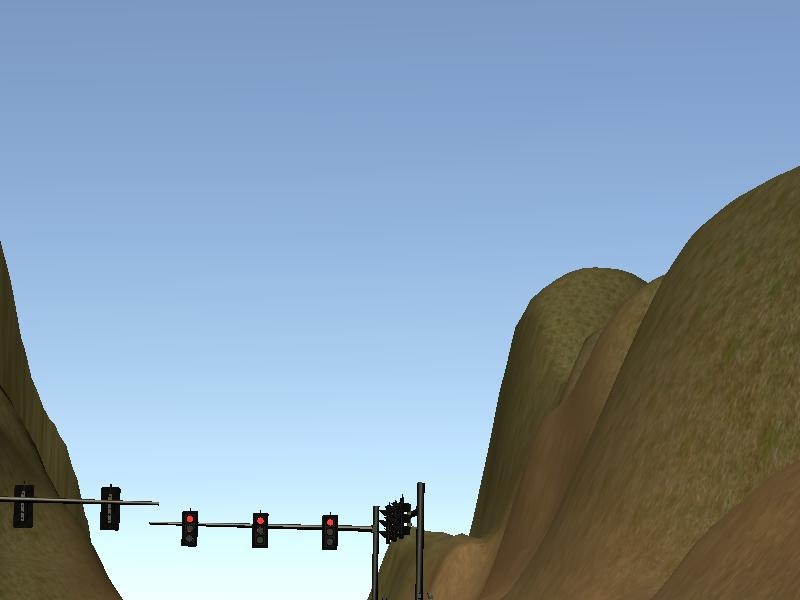red: (246, 508, 272, 552), (318, 511, 343, 555), (177, 508, 203, 550)
